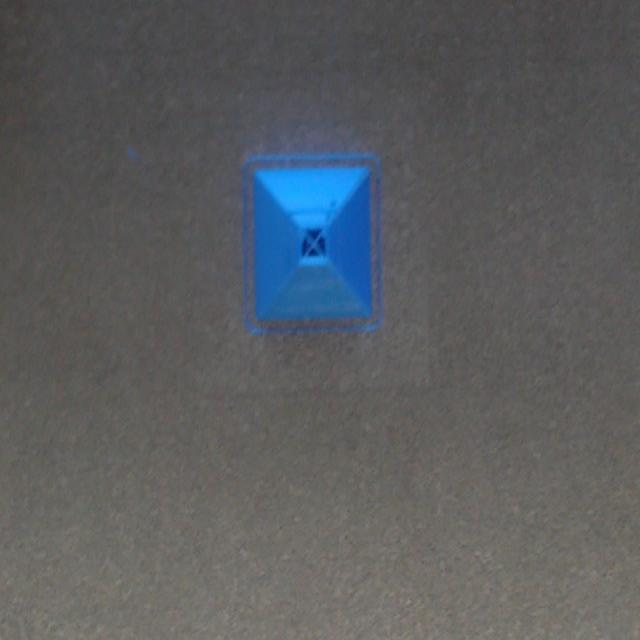mistake: (301, 229, 327, 263)
